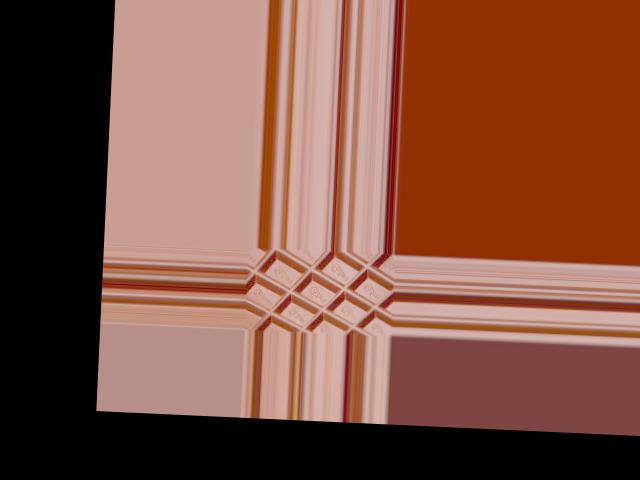chocolate: (244, 246, 391, 333)
